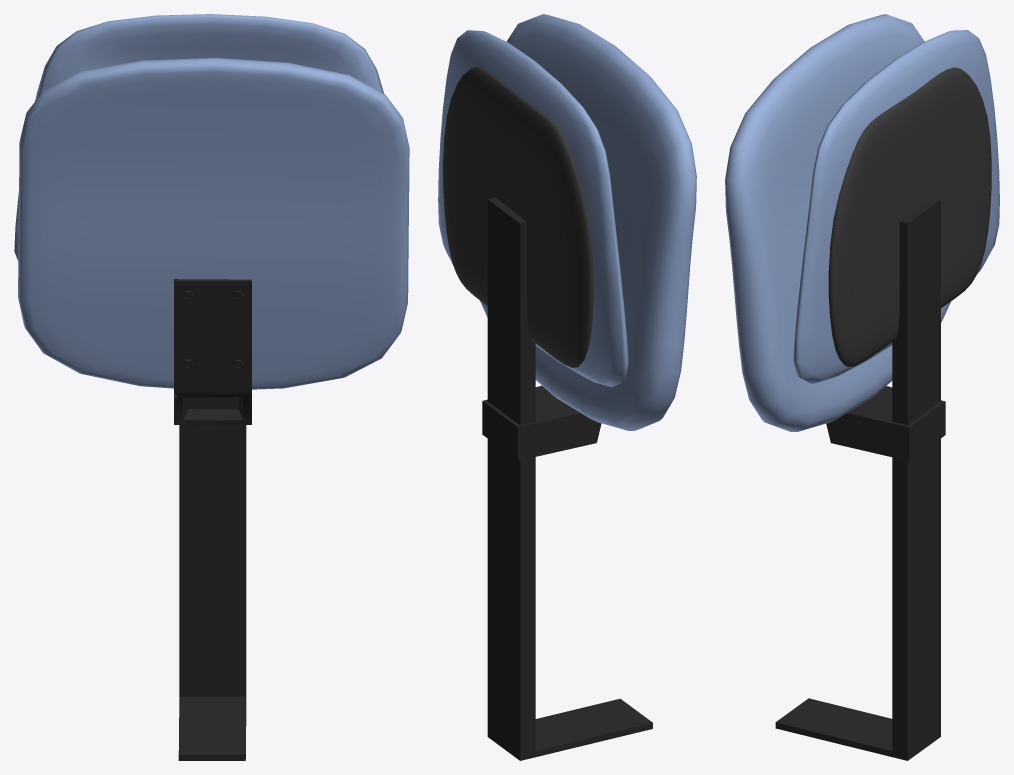
Rendered from AmphiFauteuil.fbx.
3 views of the same model, side by side, from view 1: azimuth 30°, elevation 25°; view 2: azimuth 150°, elevation 25°; view 3: azimuth 270°, elevation 25° (orthographic).
Parts seen in each view (by area): view 1: polySurface2; view 2: polySurface2; view 3: polySurface2.
Boxes of the visible parts, x1,y1,x2,y2 form: polySurface2: (14,14,409,760); polySurface2: (438,14,696,760); polySurface2: (725,14,999,760).
Size of the model in its own units: 13.77 by 28.3 by 10.33.
